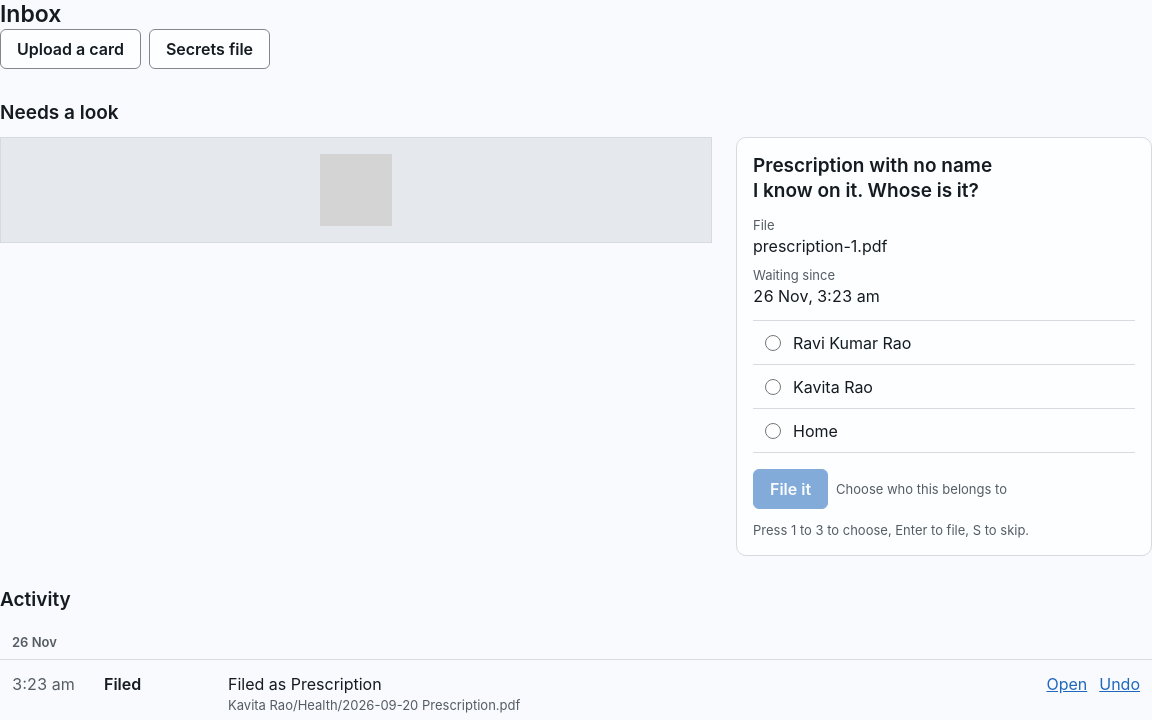
Test: InboxPage › a refused re-read keeps the file on screen and says why
Click the button "Upload a card": click(70, 49) [0,29,141,69]
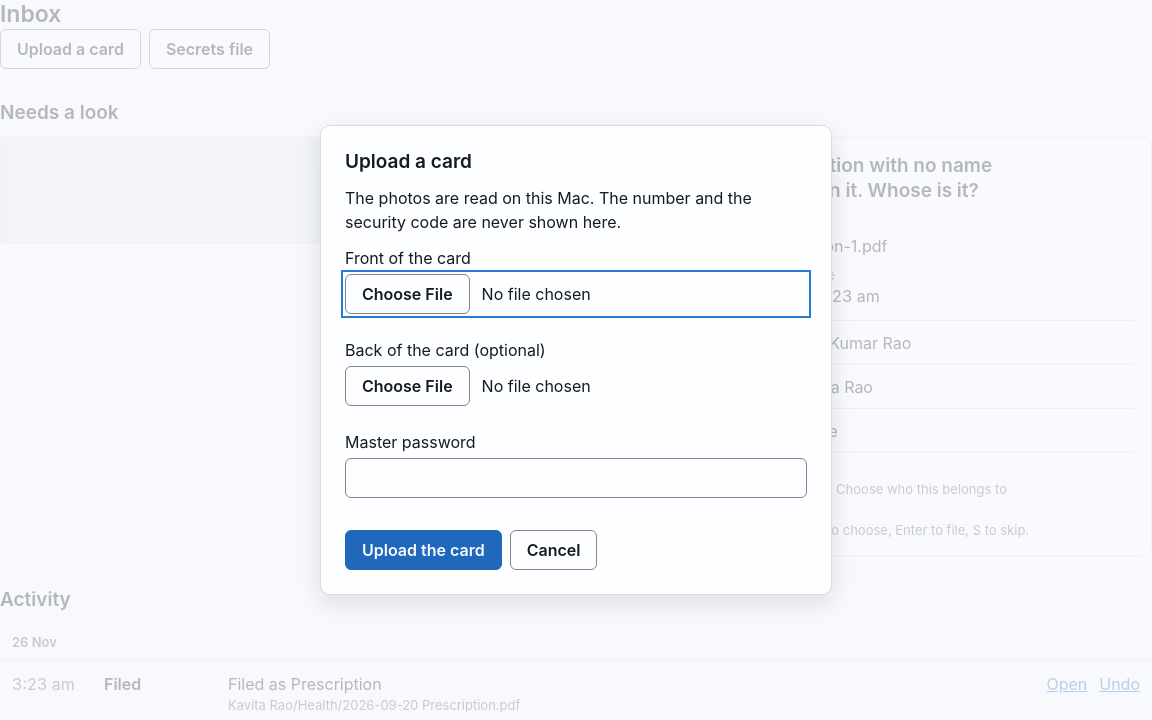
Click the button "Cancel": click(554, 550) [510,530,597,570]
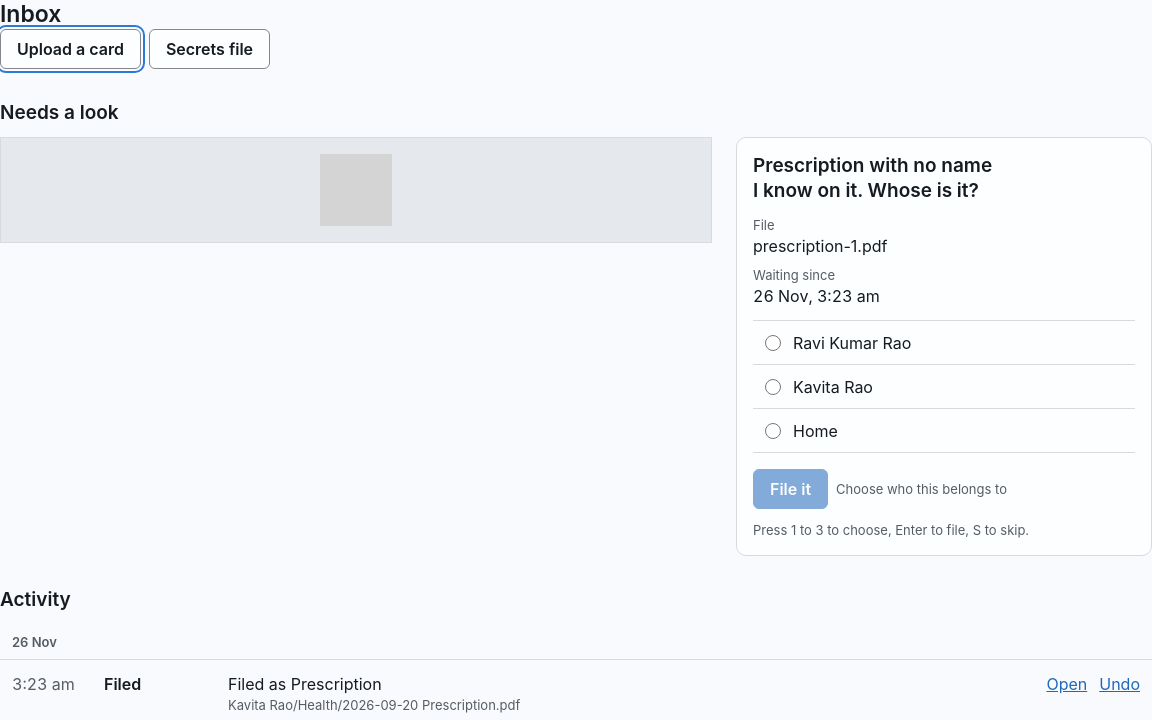
Click the radio button labelled "Home": click(773, 431) [765,423,781,439]
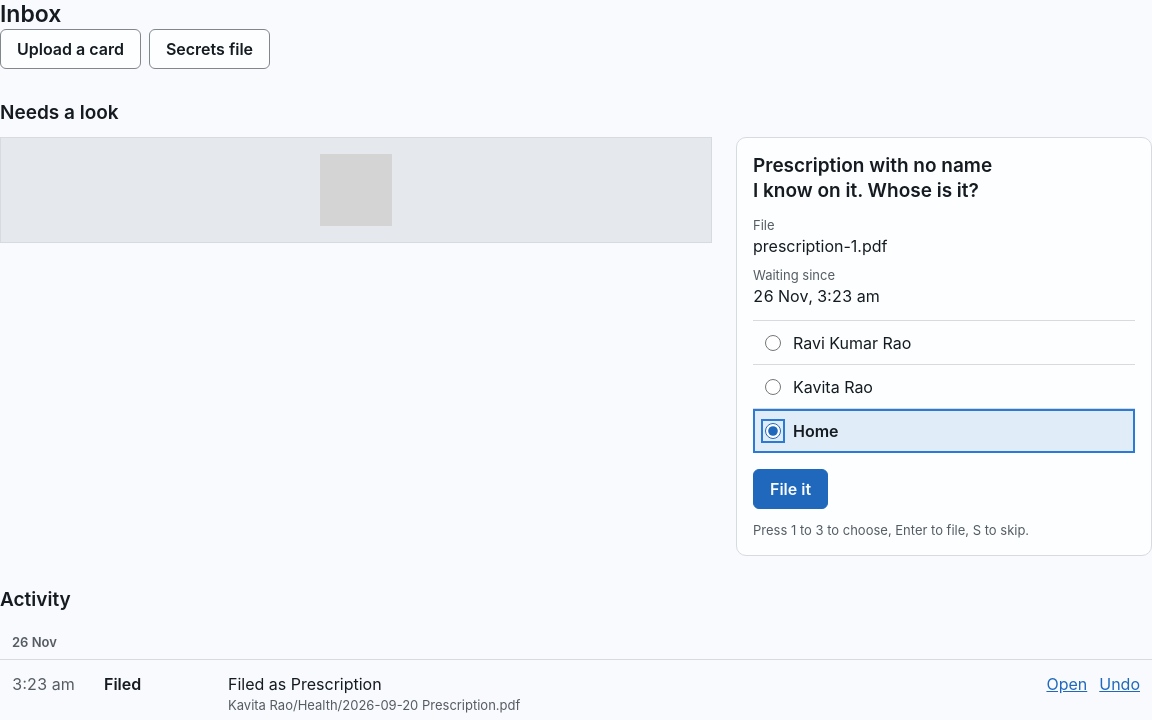
Click the button "File it": click(791, 489) [753,469,828,509]
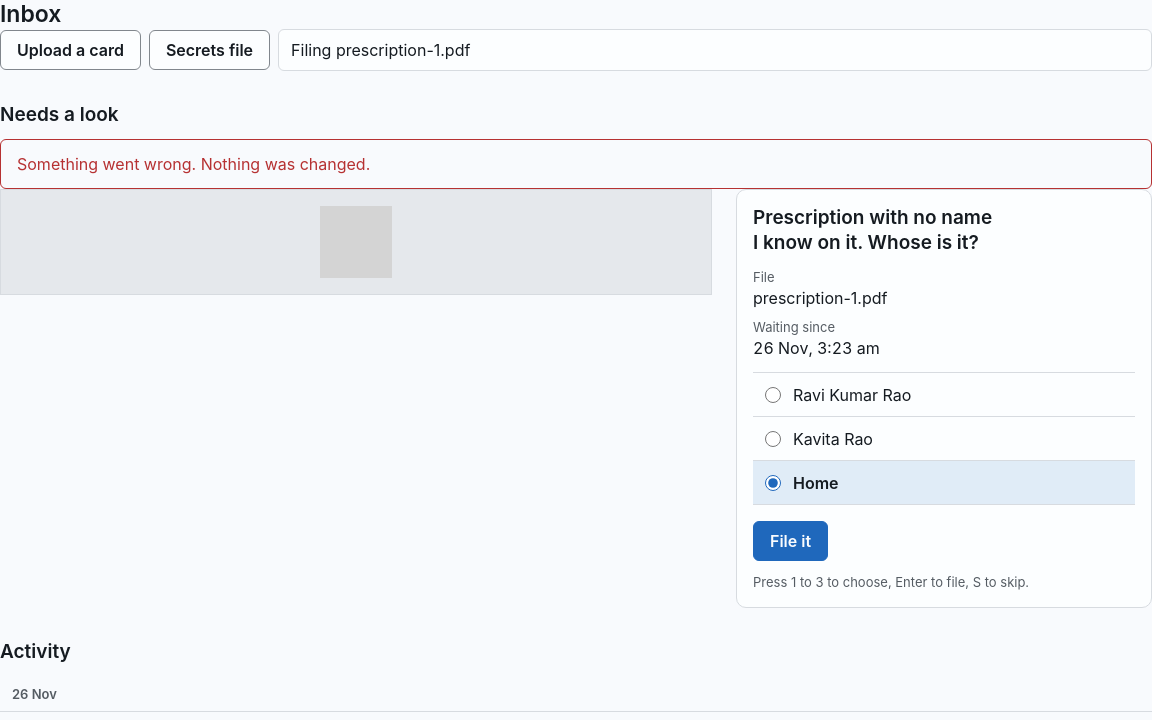
Check: the message shows "Something went wrong", box [17,154,370,174]
